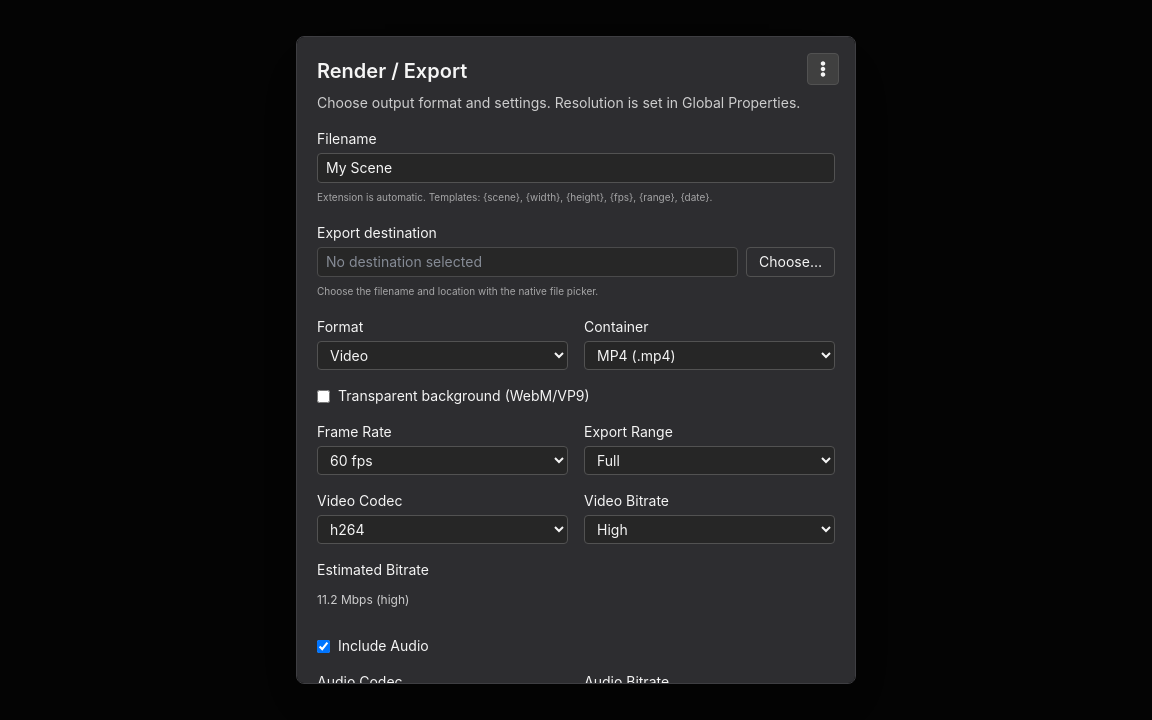
Test: RenderModal export options behaviour › defaults audio codec to aac when capabilities load
Select "Video" in the dropdown labelled "Format" at coordinates (442, 356), box [317,341,568,370]
(page scrolled)
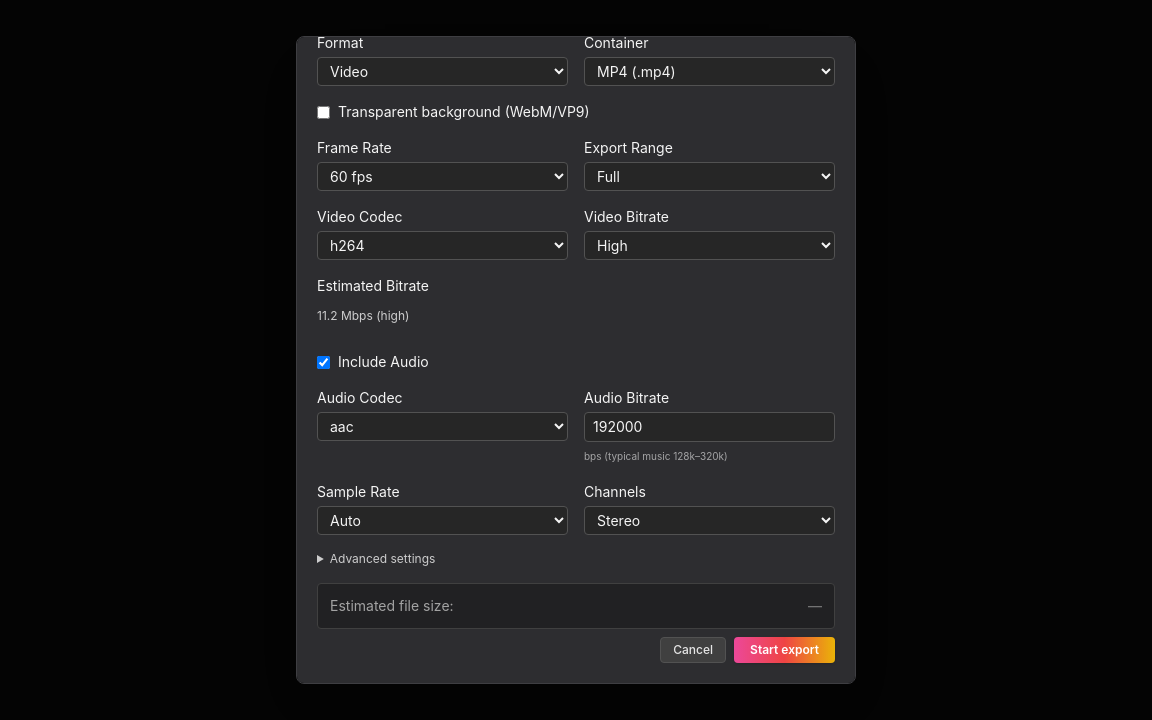
Expected: the dropdown labelled "Audio Codec" shows "aac", [317,412,568,441]
